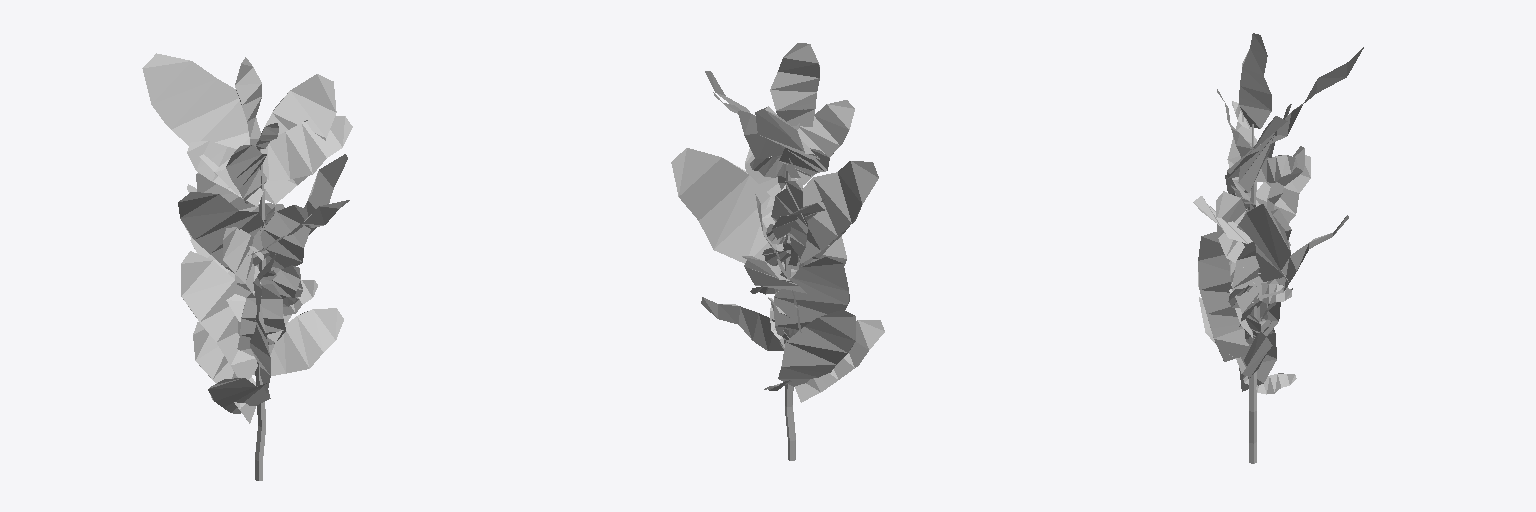
The model's file is Tree4.obj.
The picture shows the model from 3 angles: view 1: azimuth 30°, elevation 25°; view 2: azimuth 150°, elevation 25°; view 3: azimuth 270°, elevation 25°; orthographic projection.
Visible parts, largest first — view 1: TexturesCom_Branches0014_1_masked_S.002_TexturesCom_Branches001, Cylinder.002; view 2: TexturesCom_Branches0014_1_masked_S.002_TexturesCom_Branches001, Cylinder.002; view 3: TexturesCom_Branches0014_1_masked_S.002_TexturesCom_Branches001, Cylinder.002.
Boxes of the visible parts, x1=… form: TexturesCom_Branches0014_1_masked_S.002_TexturesCom_Branches001: x1=142, y1=53, x2=352, y2=423; Cylinder.002: x1=255, y1=149, x2=265, y2=480; TexturesCom_Branches0014_1_masked_S.002_TexturesCom_Branches001: x1=671, y1=43, x2=884, y2=402; Cylinder.002: x1=784, y1=125, x2=795, y2=460; TexturesCom_Branches0014_1_masked_S.002_TexturesCom_Branches001: x1=1193, y1=33, x2=1363, y2=394; Cylinder.002: x1=1249, y1=124, x2=1256, y2=463.
Size of the model in its own units: 19.36 by 41.31 by 15.43.